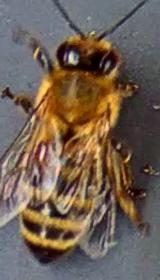varroa_mite: (20, 131, 54, 174)
